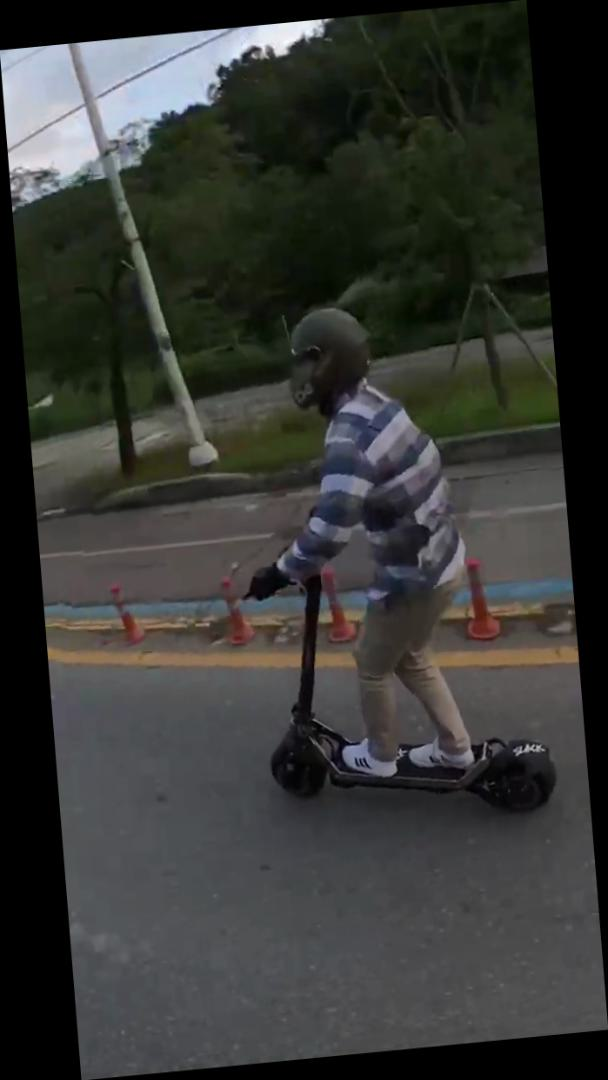helmet: (216, 287, 563, 842)
